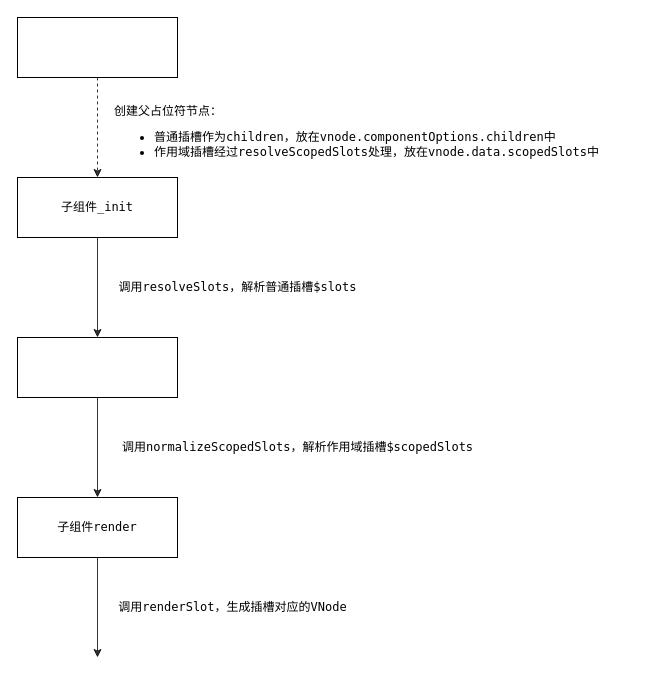
Some shapes in this 650 by 683 pixel diagram are drawn without their labels. Here are the shapes that lost their labels. From the top down, the centre of each, then its label:
the point at 97,47: 父组件render
the point at 97,367: 子组件_render
